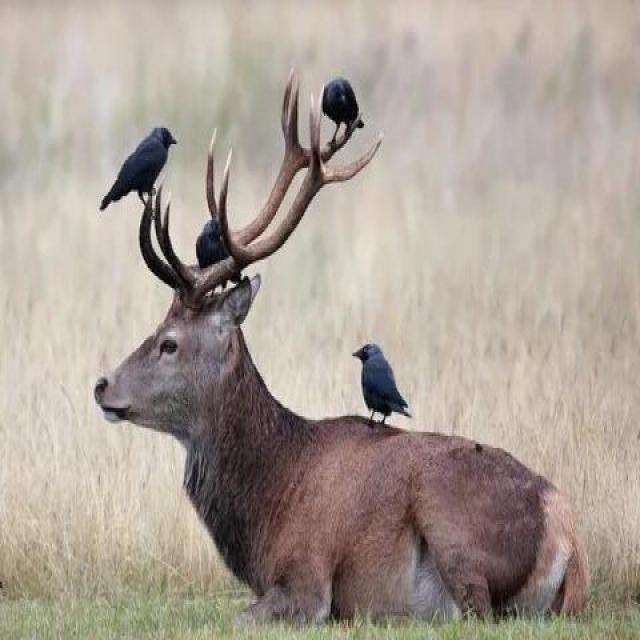deer: (108, 149, 603, 612)
